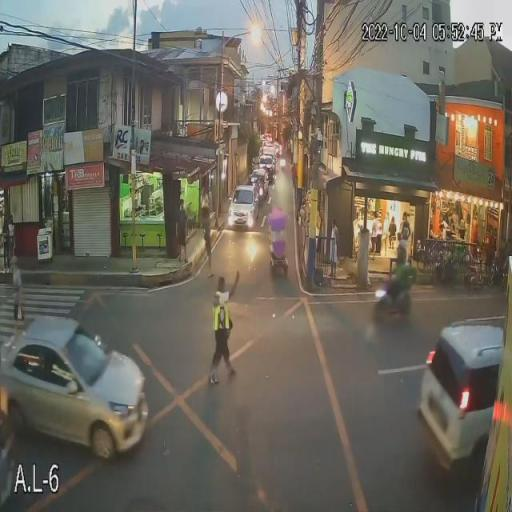helmet: (393, 244, 411, 268)
motorcycle: (374, 284, 416, 324)
rider: (386, 247, 408, 317)
